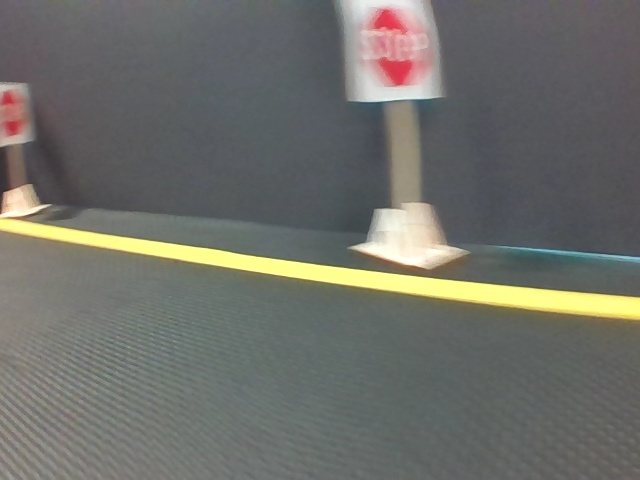stop: (344, 2, 441, 100), (3, 83, 29, 141)
